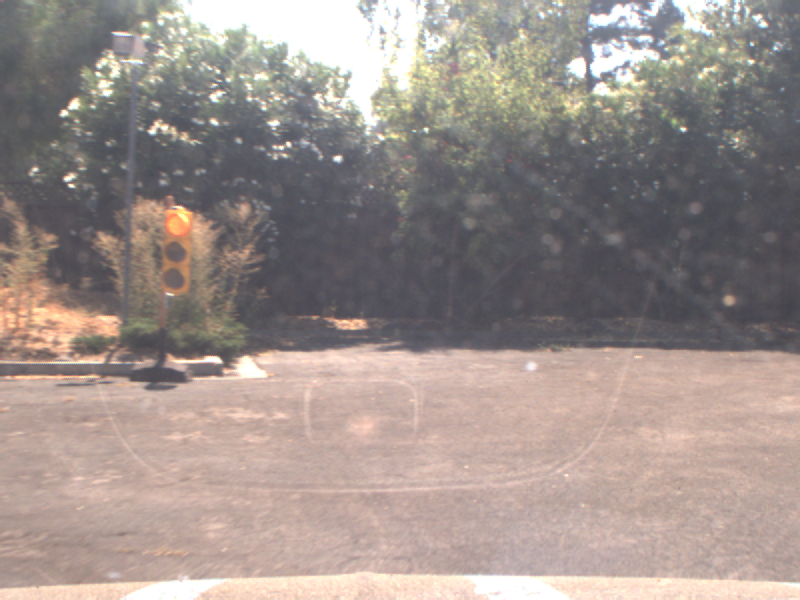red: (160, 204, 190, 297)
